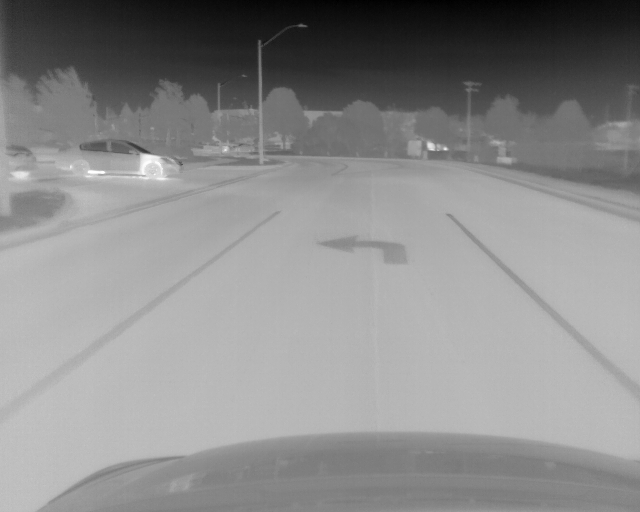car: (53, 137, 184, 179), (6, 145, 37, 178)
